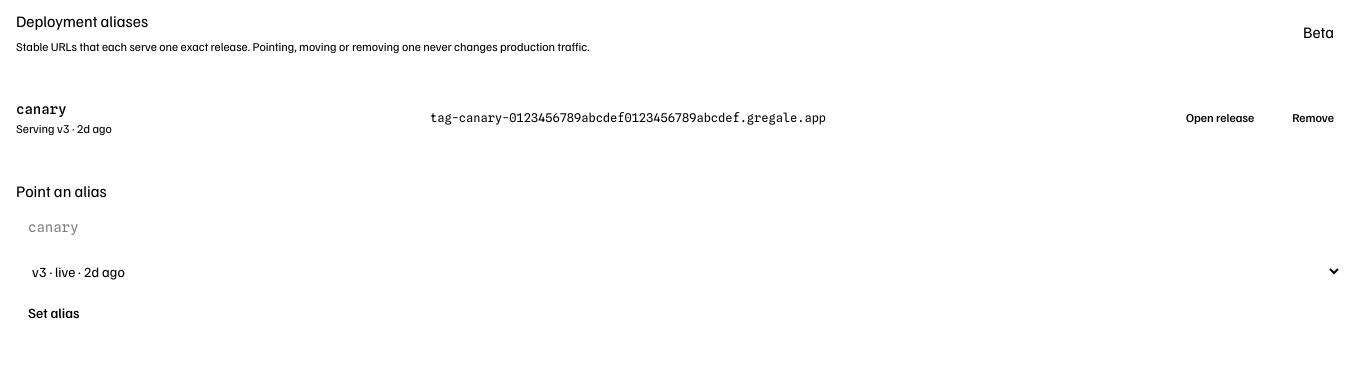
Test case: DeploymentAliasesPanel › shows apid’s reason when the target cannot take an alias
Type "staging" into the field named "Alias name" at (104, 227), box [16,209,192,245]
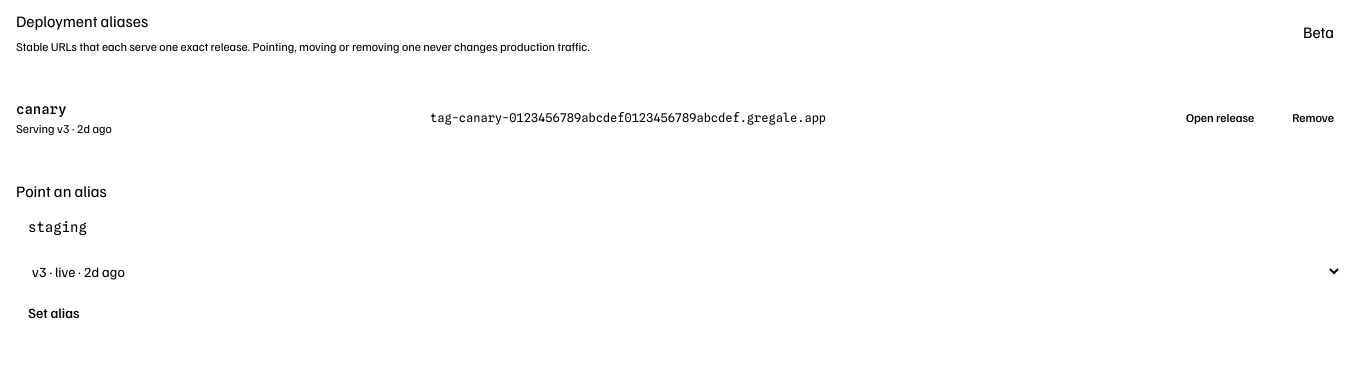
Select "v4 · building · 2d ago" in the dropdown named "Release" at (679, 271), box [16,253,1342,289]
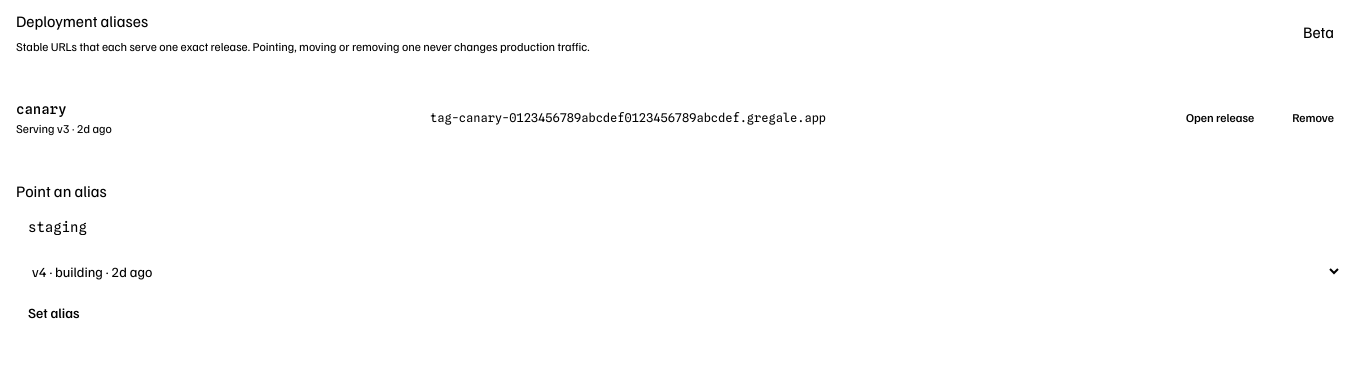
Click the button "Set alias" at (54, 313), box [16,297,92,329]
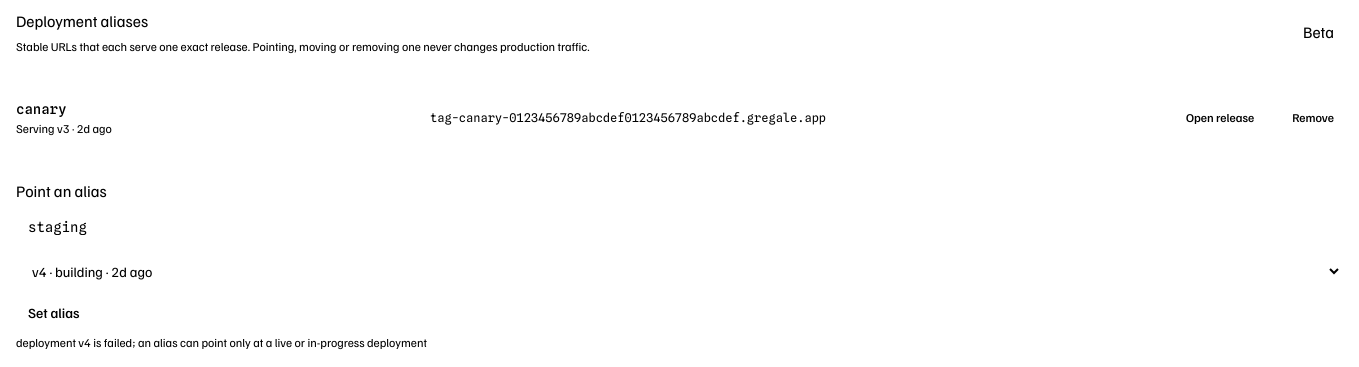
Expected: the message shows "v4 is failed", [16,335,427,350]
